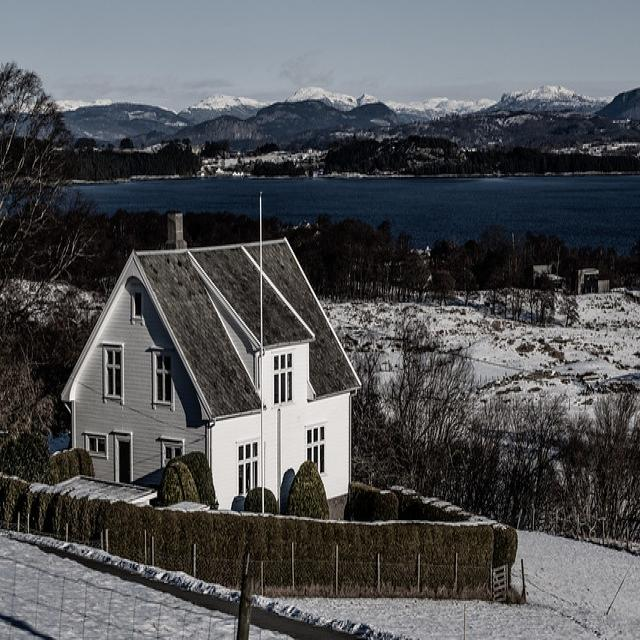Normal_building: (54, 230, 365, 528)
